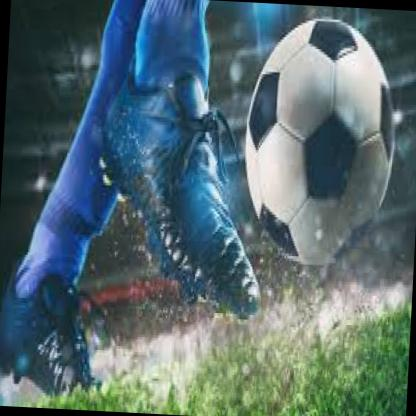ball: (238, 13, 402, 272)
